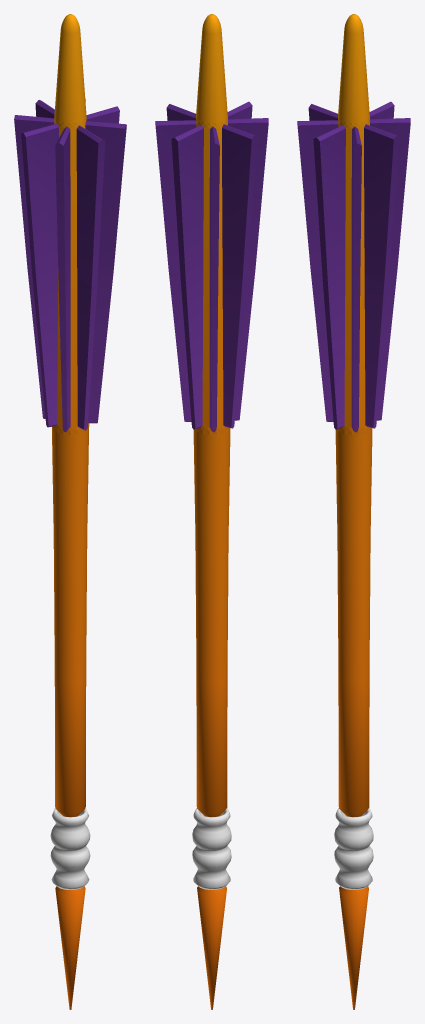
File: yakaArrow (2).fbx
The picture shows the model from 3 angles, left to right: view 1: azimuth 90°, elevation 25°; view 2: azimuth 150°, elevation 25°; view 3: azimuth 330°, elevation 25°; orthographic projection.
Parts seen in each view (by area): view 1: Cylinder; view 2: Cylinder; view 3: Cylinder.
Boxes of the visible parts, box(x1,y1,x2,y2) form: Cylinder: box(14, 14, 126, 1009); Cylinder: box(155, 14, 268, 1009); Cylinder: box(297, 14, 410, 1009).
Bounding box in the file's own units: 30.81 × 300 × 30.81.
